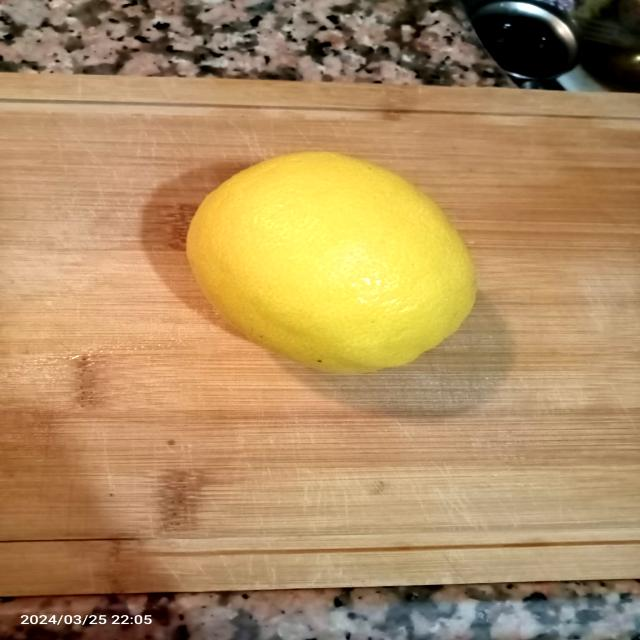lemon: (157, 129, 507, 395)
